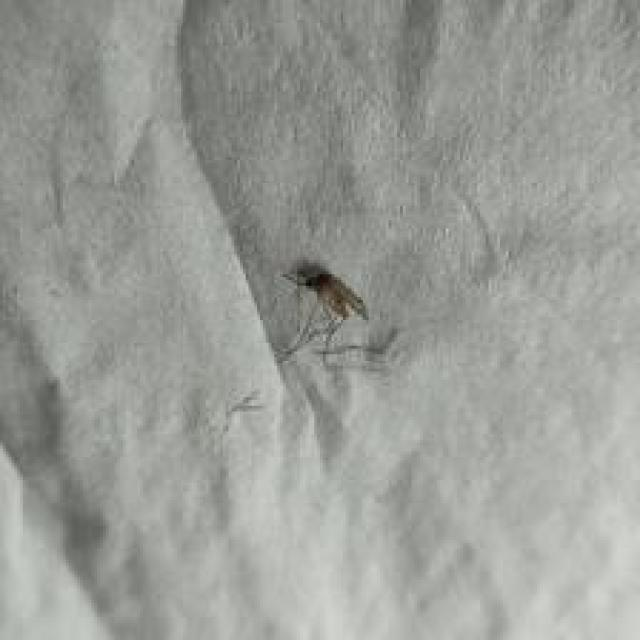Culex: (281, 263, 370, 326)
